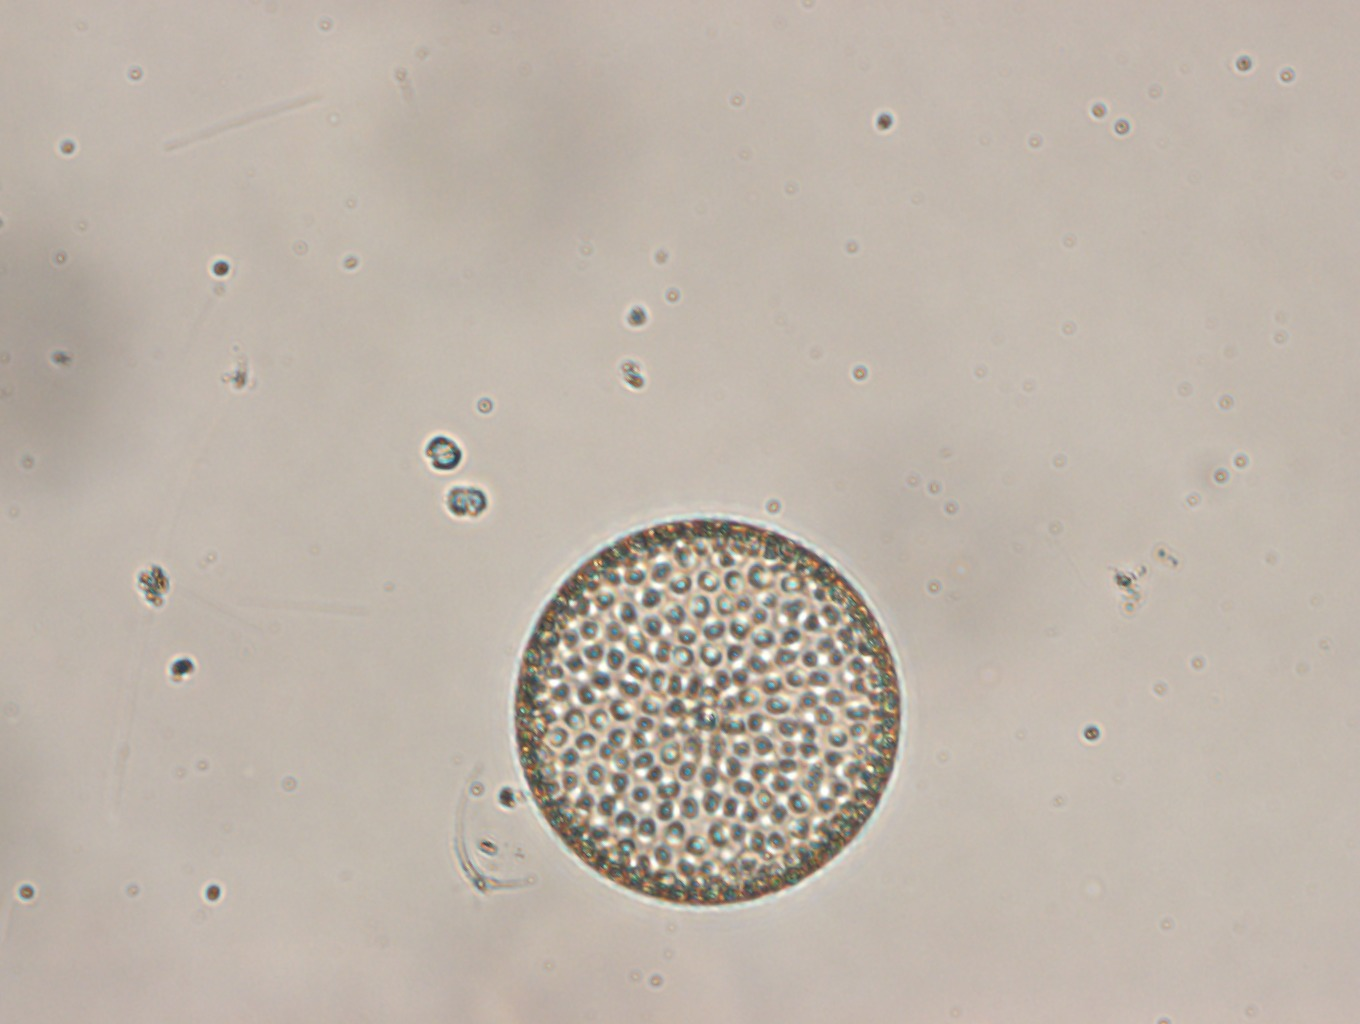coscinodiscus: (511, 516, 901, 905)
